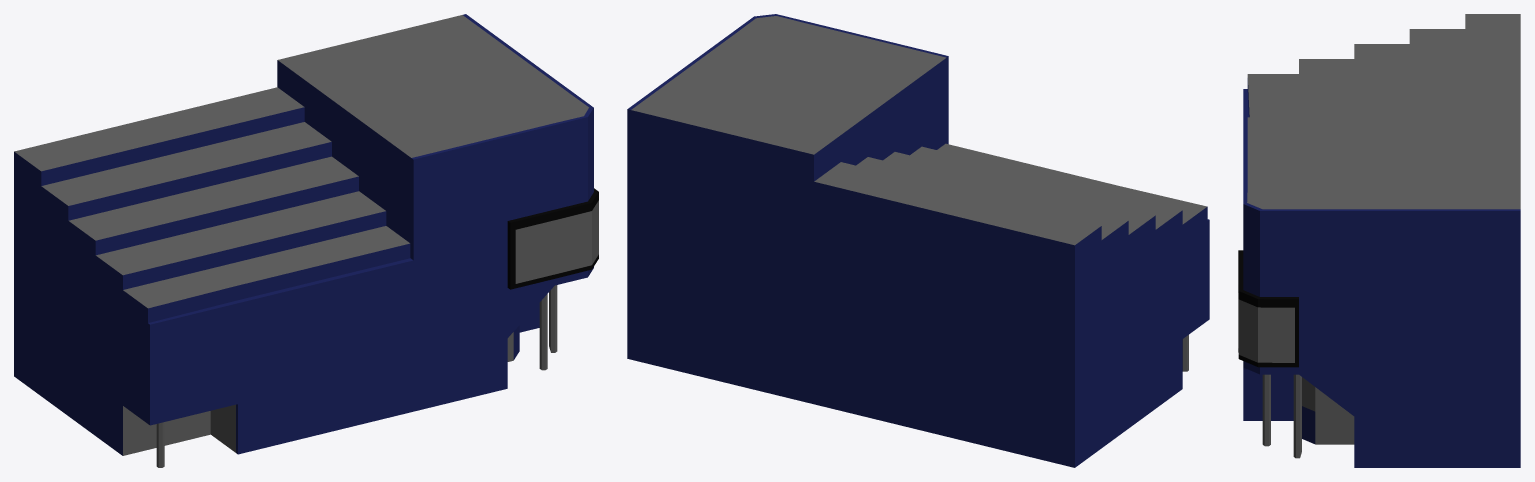
File: LandmarkTower.fbx
3 views of the same model, side by side, from view 1: azimuth 30°, elevation 25°; view 2: azimuth 150°, elevation 25°; view 3: azimuth 270°, elevation 25° (orthographic). The views are drawn at different scales.
Parts seen in each view (by area): view 1: LibertyTower; view 2: LibertyTower; view 3: LibertyTower.
Part boxes in pixels (left/top/right/bottom): LibertyTower: left=14, top=14, right=598, bottom=467; LibertyTower: left=627, top=14, right=1209, bottom=467; LibertyTower: left=1238, top=14, right=1520, bottom=467.
Bounding box in the file's own units: 2595 × 1370 × 1365.
